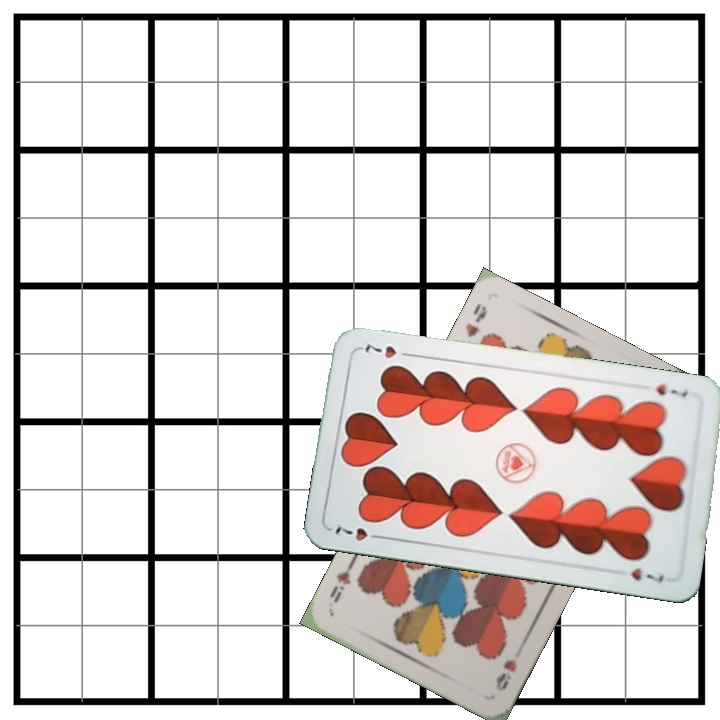H7: (331, 520, 387, 544), (652, 380, 691, 399)
H9: (461, 299, 490, 340), (491, 655, 520, 694)
